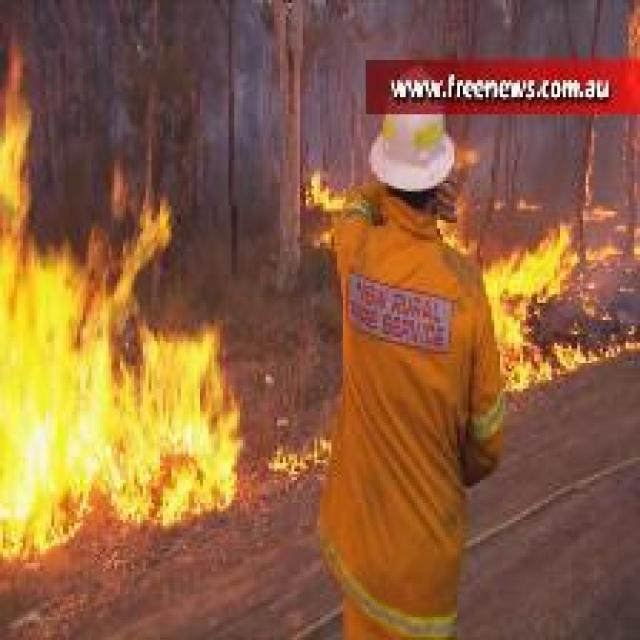fire: (1, 92, 246, 549), (470, 220, 608, 374), (300, 156, 344, 243)
